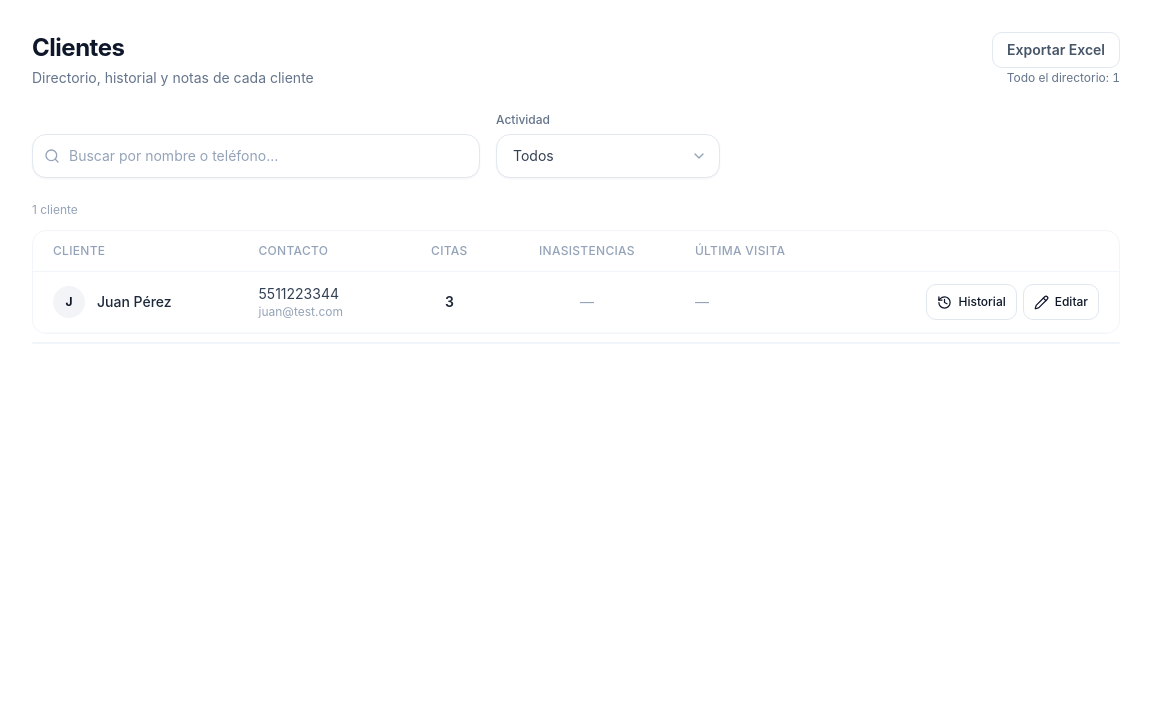
Test case: ClientesPage — editar cliente › no envía un teléfono o un correo con formato inválido
The image size is (1152, 720).
Click the button with aria-label "Editar Juan Pérez" at (1061, 302), box [1023,284,1099,320]
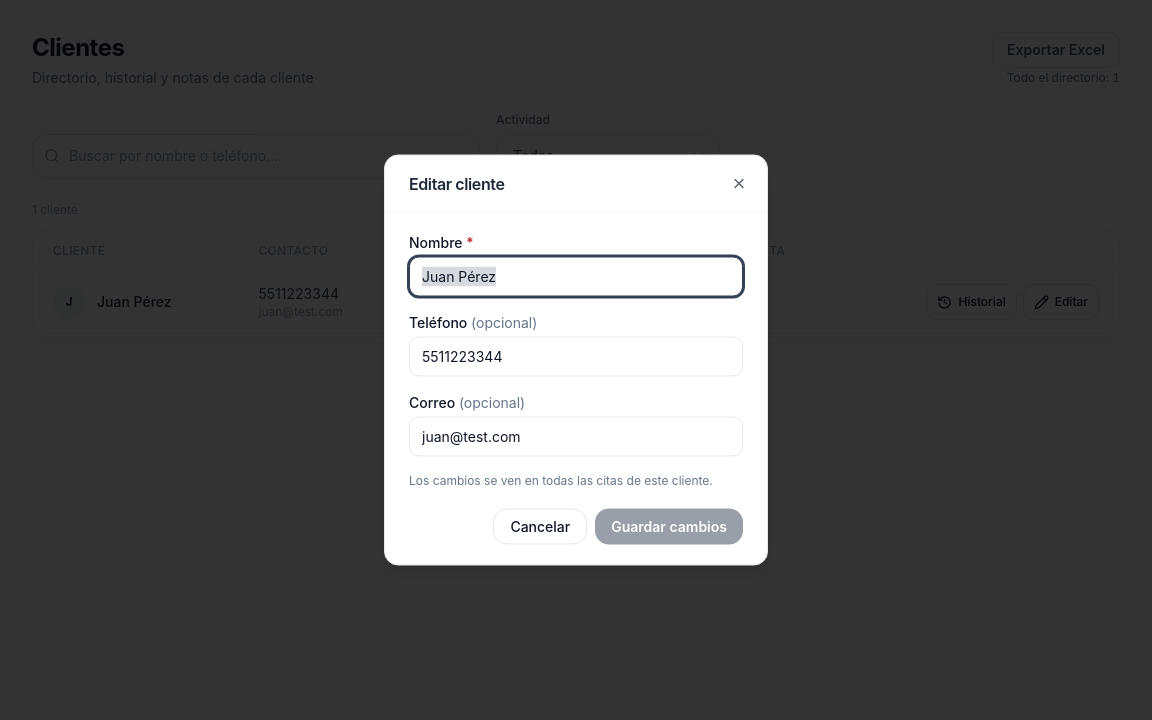
Replace the text in the field labelled "Teléfono (opcional)" with "12" at (576, 356), box [409,336,743,376]
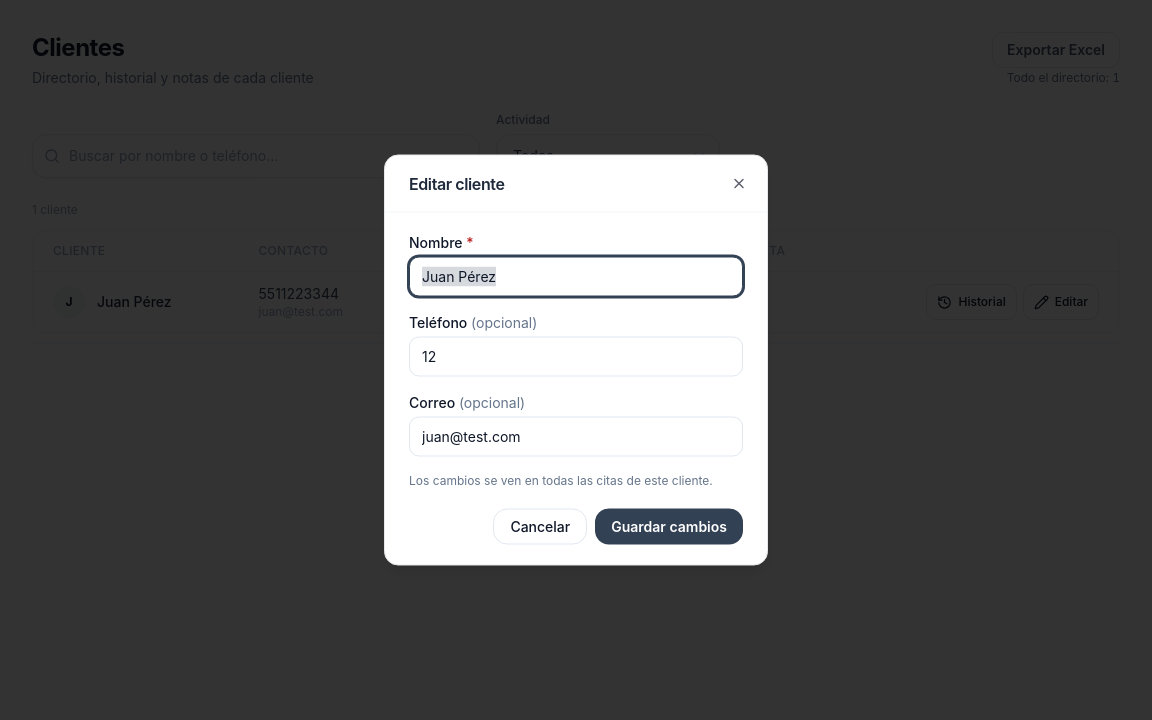
Replace the text in the field labelled "Correo (opcional)" with "no-es-correo" at (576, 436), box [409,416,743,456]
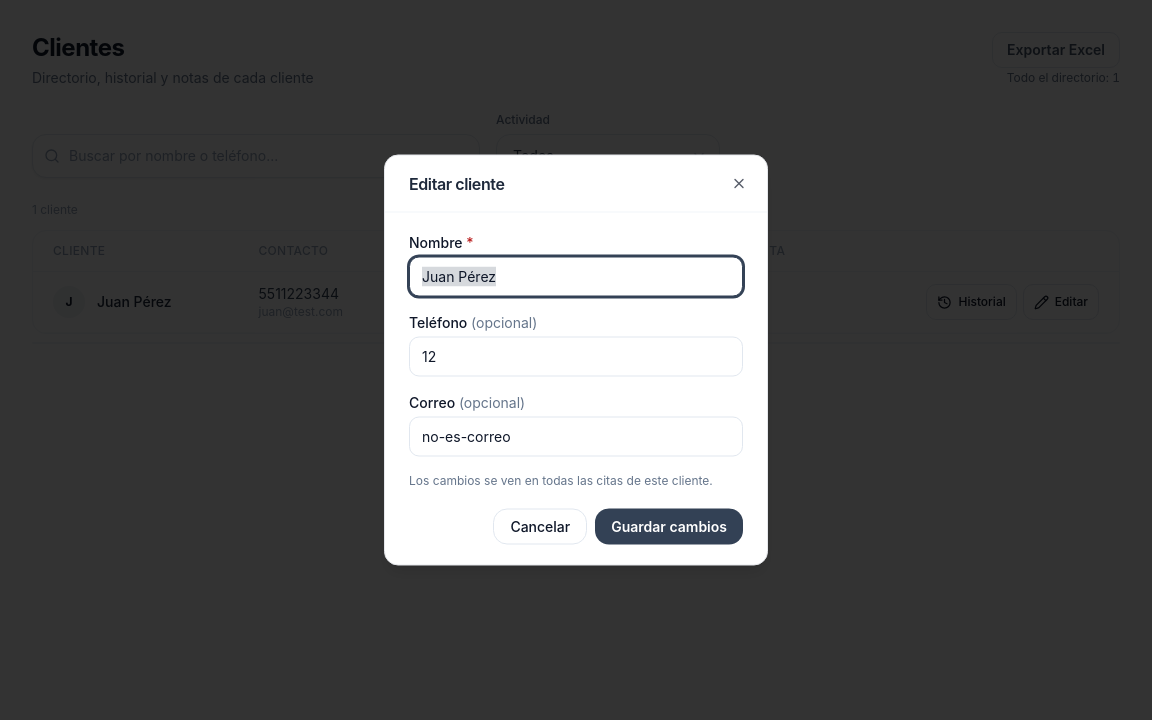
Click the button "Guardar cambios" at (669, 526), box [595,508,743,544]
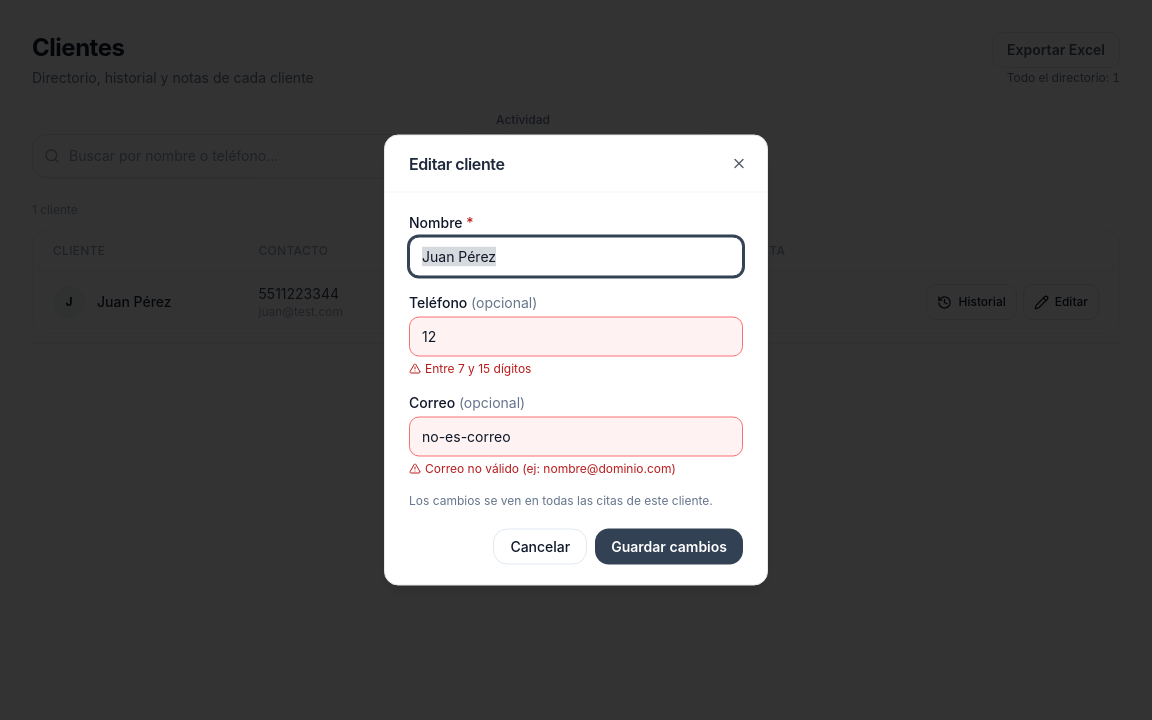
Check: the text "Entre 7 y 15 dígitos" is shown, box [409,360,531,376]
Check: the text "Correo no válido (ej: nombre@dominio.com)" is shown, box [409,460,676,476]
